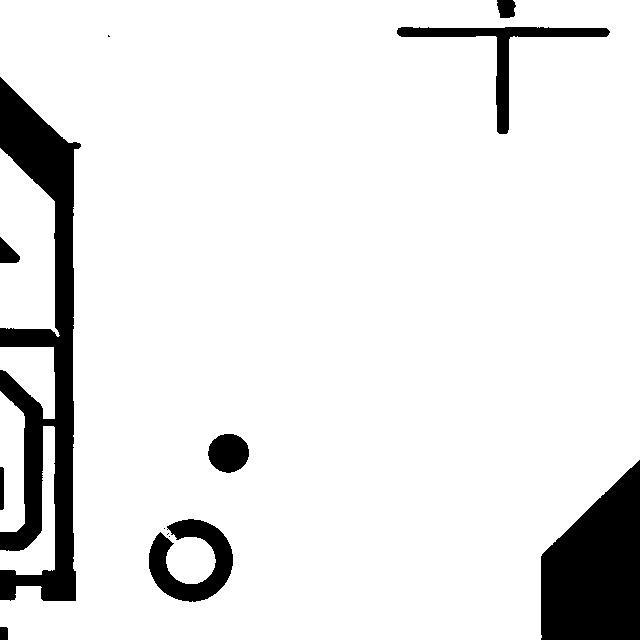mousebite: (36, 314, 69, 346)
open: (145, 513, 190, 554)
short: (0, 565, 54, 595), (29, 409, 71, 439)
spur: (54, 132, 90, 161)
